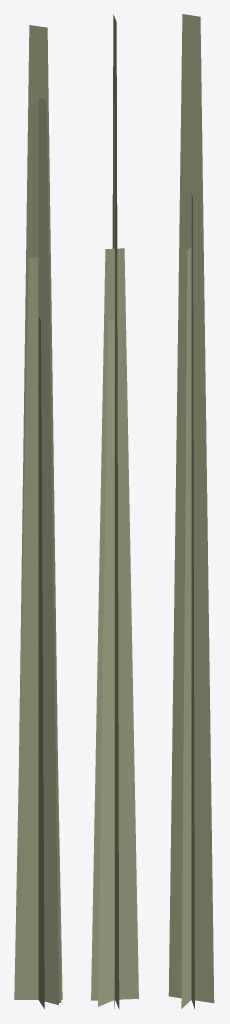
Rendered from bank_reed_v0_near.gltf.
The picture shows the model from 3 angles, left to right: view 1: azimuth 90°, elevation 25°; view 2: azimuth 210°, elevation 25°; view 3: azimuth 270°, elevation 25°; orthographic projection.
Visible parts, largest first — view 1: cover; view 2: cover; view 3: cover.
Part boxes in pixels (box(x1,y1,x2,y2)): cover: box(14, 25, 62, 1008); cover: box(91, 14, 138, 1009); cover: box(168, 14, 214, 1009).
Bounding box in the file's own units: 0.0396 × 0.8993 × 0.04.
